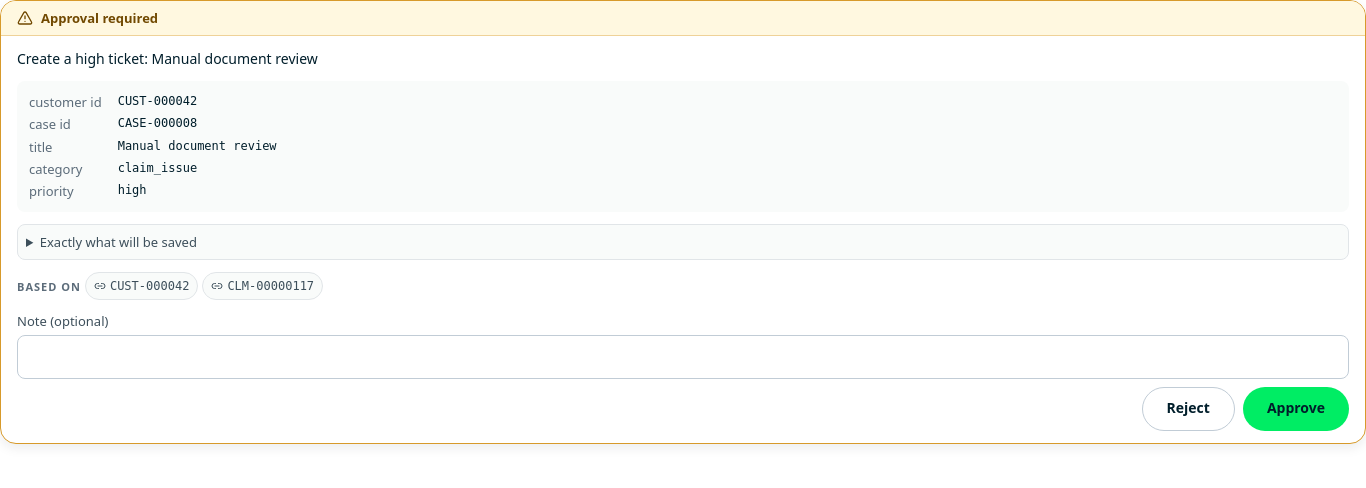
ApprovalCard — approve › shows the exact payload that will be written
The image size is (1366, 488).
Click the heading "Exactly what will be saved" at (118, 242), box [40, 233, 197, 251]
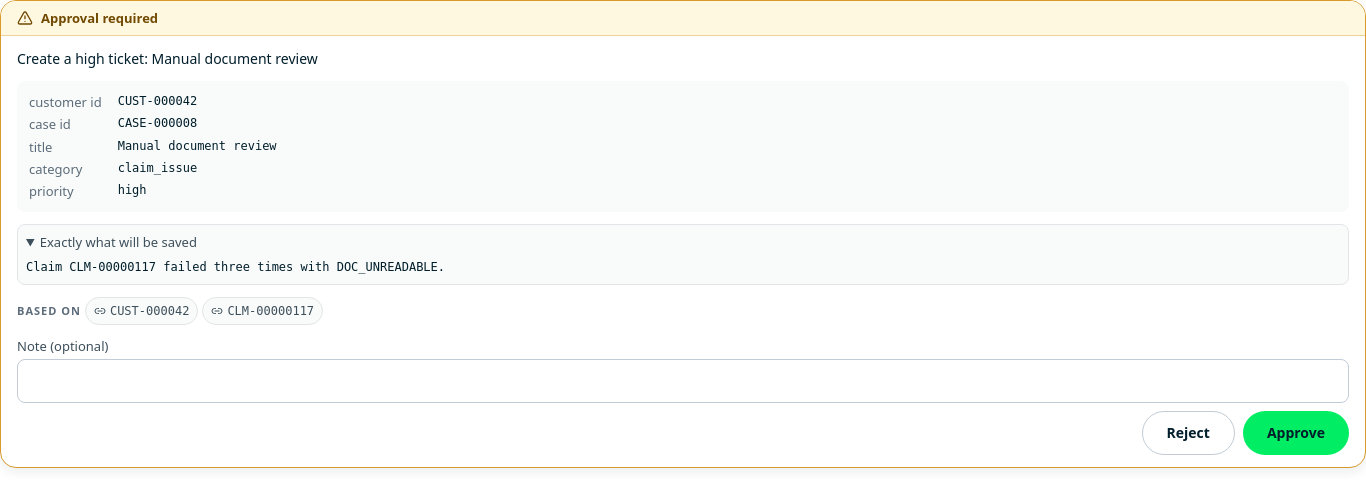
expect the text "CUST-000042" is shown: met, box [118, 94, 197, 108]
expect the text with test id "approval-payload" shows "DOC_UNREADABLE": met, box [26, 260, 445, 274]
